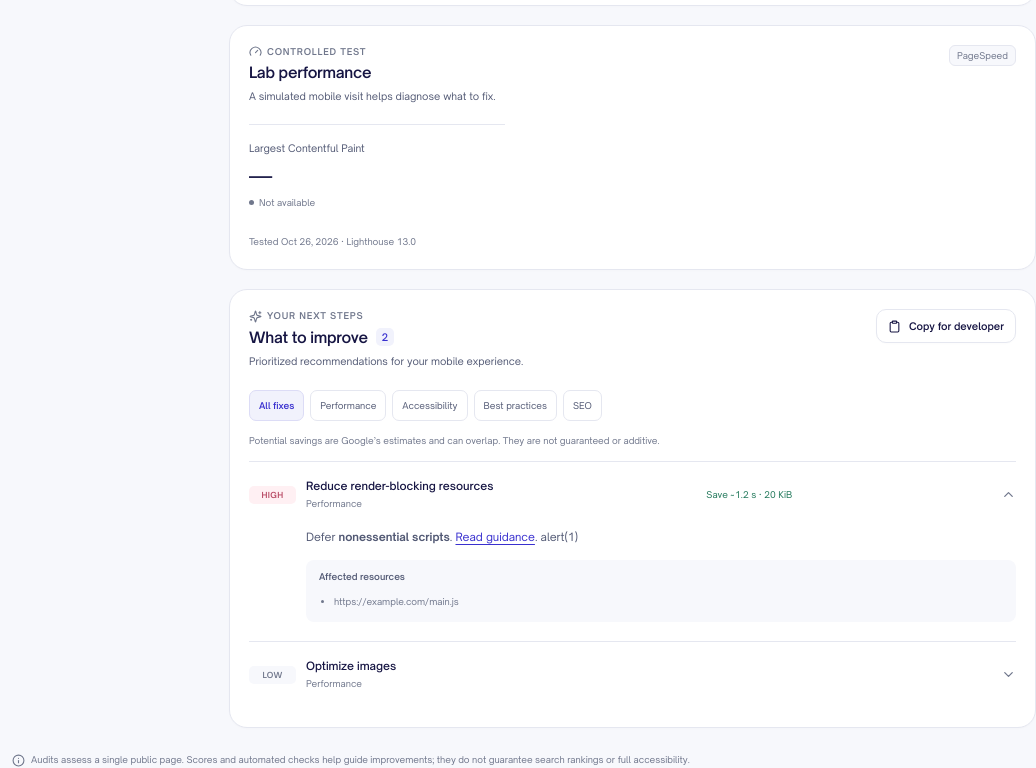
Website Health reports › prioritizes fixes, renders descriptions safely, and shows resources and estimated savings
This screenshot has width=1036, height=768.
(page scrolled)
Expected: the element with class "health-issue" shows "Reduce render-blocking resources", [306, 479, 494, 493]
Expected: the text "nonessential scripts" is shown, [338, 530, 450, 544]
Click the button "Accessibility" at x=430, y=406, box [392, 390, 468, 421]
(page scrolled)
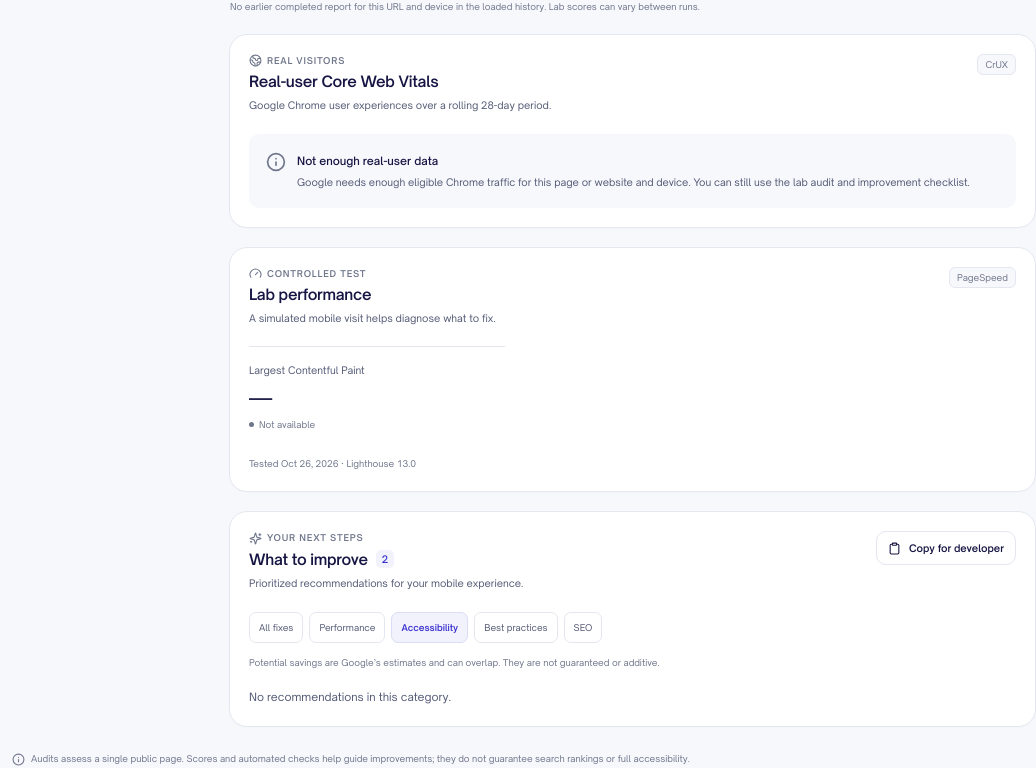
Now no elements with class "health-issue" are shown
Now the text "No recommendations in this category" is shown, box [249, 690, 451, 704]
